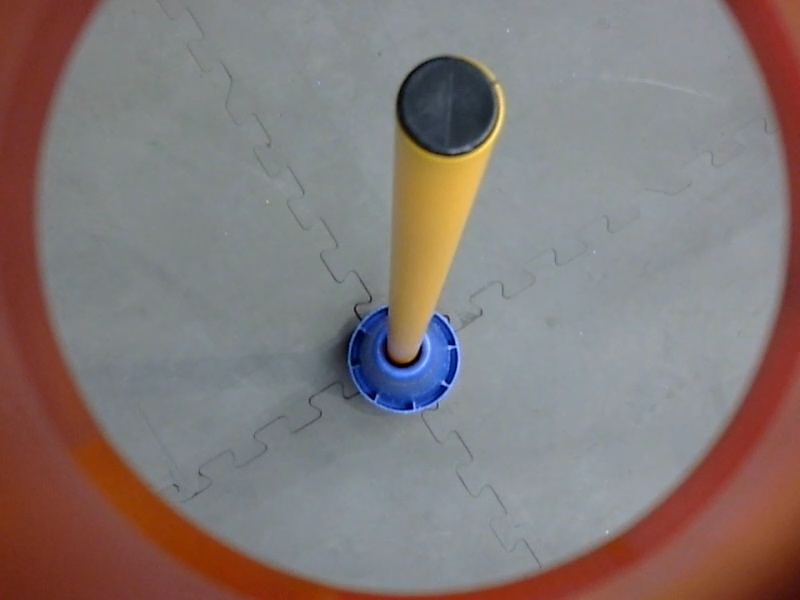tip: (391, 50, 507, 163)
